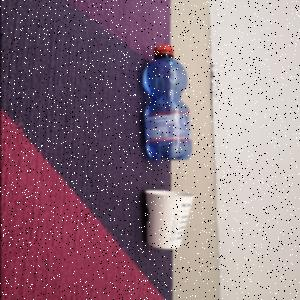Cup: (144, 191, 196, 251)
Plastic-bottle: (142, 46, 194, 166)
